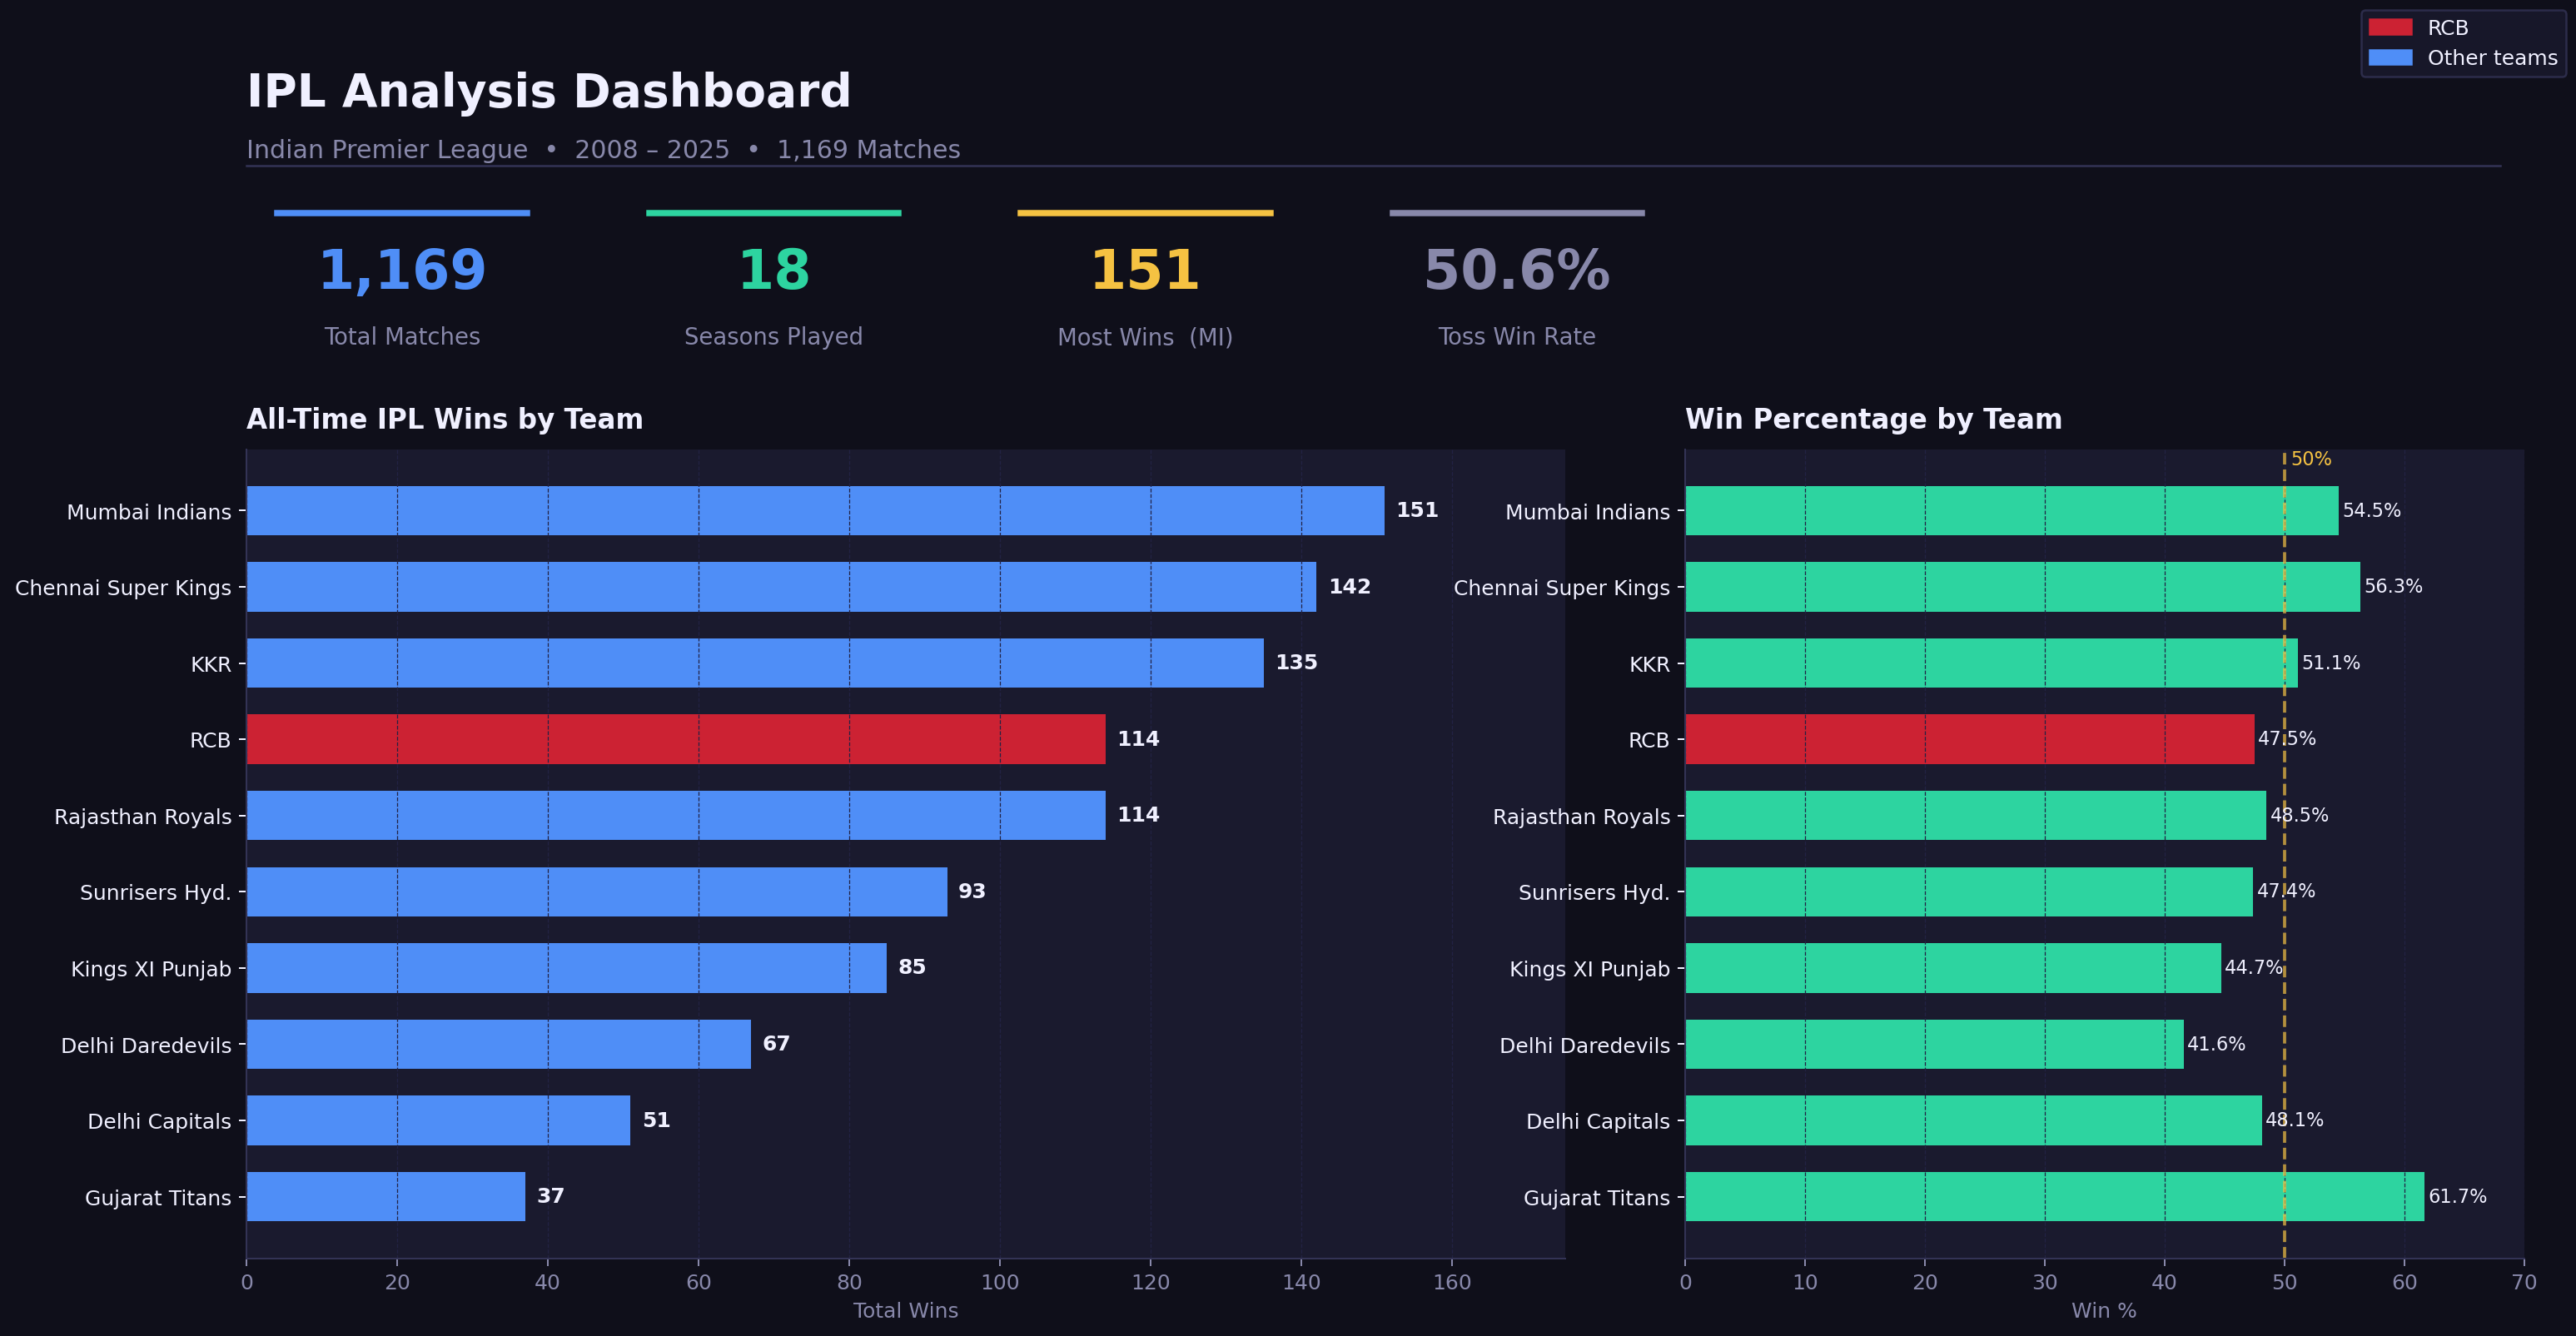

The dashboard page shown, as its layout file describes it:
{"tool":"powerbi","page":{"name":"Overview","canvas":[1280,720],"ordinal":0},"visuals":[{"type":"clusteredBarChart","title":"All - Time Wins By Team","fields":{"Category":["pbi_team_wins.team"],"Y":["Sum(pbi_team_wins.wins)"]},"box":[22.7,226.8,1235.9,493.2],"z":0},{"type":"card","title":"Total Matches","fields":{"Values":["CountNonNull(pbi_matches.match_id)"]},"box":[22,70,322,134],"z":1},{"type":"card","title":"Most Wins(MI)","fields":{"Values":["Max(pbi_team_wins.wins)"]},"box":[344,70,296,126],"z":2},{"type":"card","title":"Seasons","fields":{"Values":["Count(pbi_matches.year)"]},"box":[640,70,294,126],"z":3},{"type":"slicer","fields":{"Values":["pbi_matches.year"]},"box":[934,70,324,156],"z":4},{"type":"textbox","box":[22,0,1258,70],"z":5}]}

Visuals, with their boxes on the page's 1280x720 design canvas (x1, y1, x2, y2). These are canvas units, not pixel positions in the 2576x1336 screenshot, which may show the page scaled, cropped or inside an application window:
"All - Time Wins By Team" clusteredBarChart: locate(23, 227, 1259, 720)
"Total Matches" card: locate(22, 70, 344, 204)
"Most Wins(MI)" card: locate(344, 70, 640, 196)
"Seasons" card: locate(640, 70, 934, 196)
slicer - pbi_matches.year: locate(934, 70, 1258, 226)
textbox: locate(22, 0, 1280, 70)
